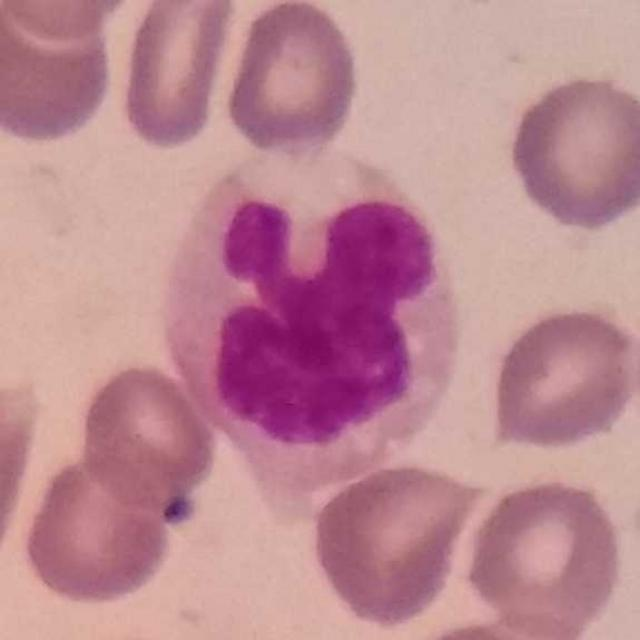mono: (162, 138, 461, 516)
